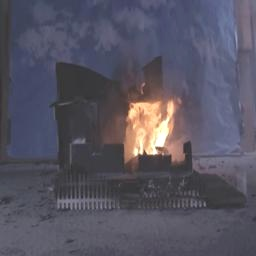fire: (121, 87, 185, 161)
